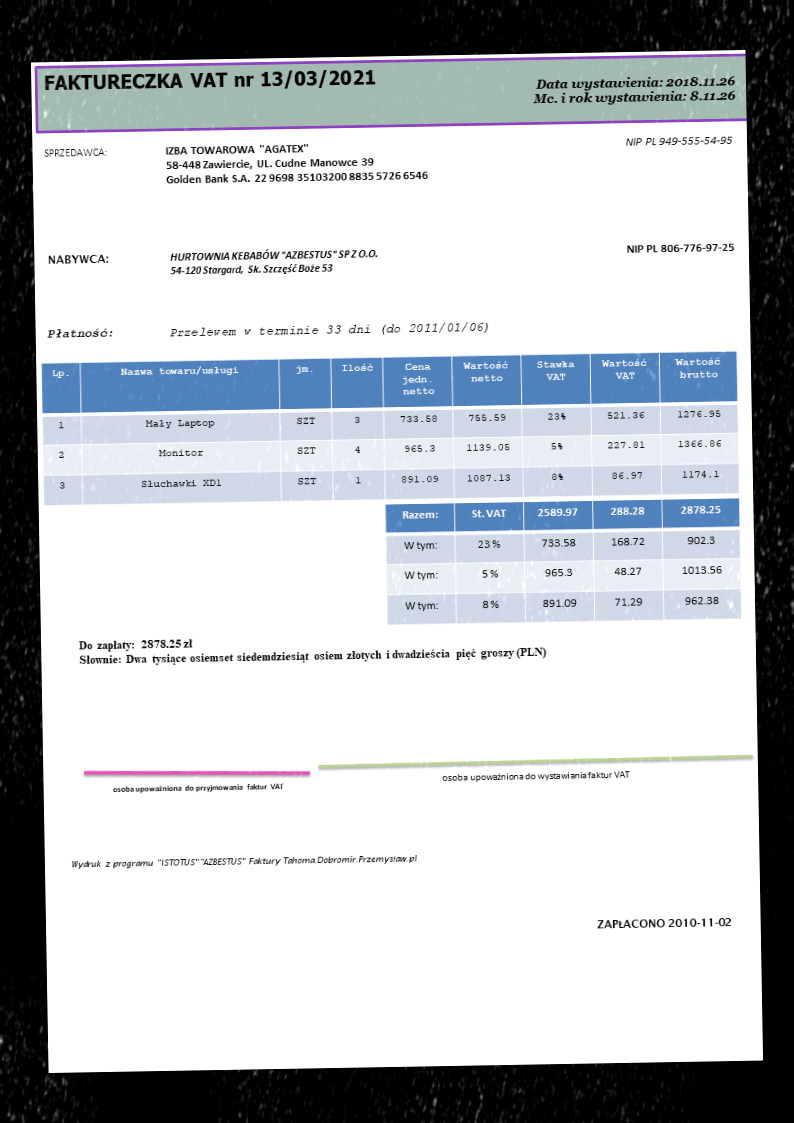Table: (40, 349, 741, 508), (384, 497, 742, 626)
TextBox: (76, 630, 549, 669), (163, 139, 430, 187), (41, 66, 377, 96), (69, 851, 419, 872), (529, 73, 736, 108), (169, 320, 491, 341), (168, 247, 380, 277), (439, 769, 630, 784), (110, 780, 284, 796), (594, 913, 732, 931), (624, 241, 735, 256), (624, 134, 734, 148), (45, 325, 115, 341), (42, 144, 108, 160), (45, 251, 109, 267)
